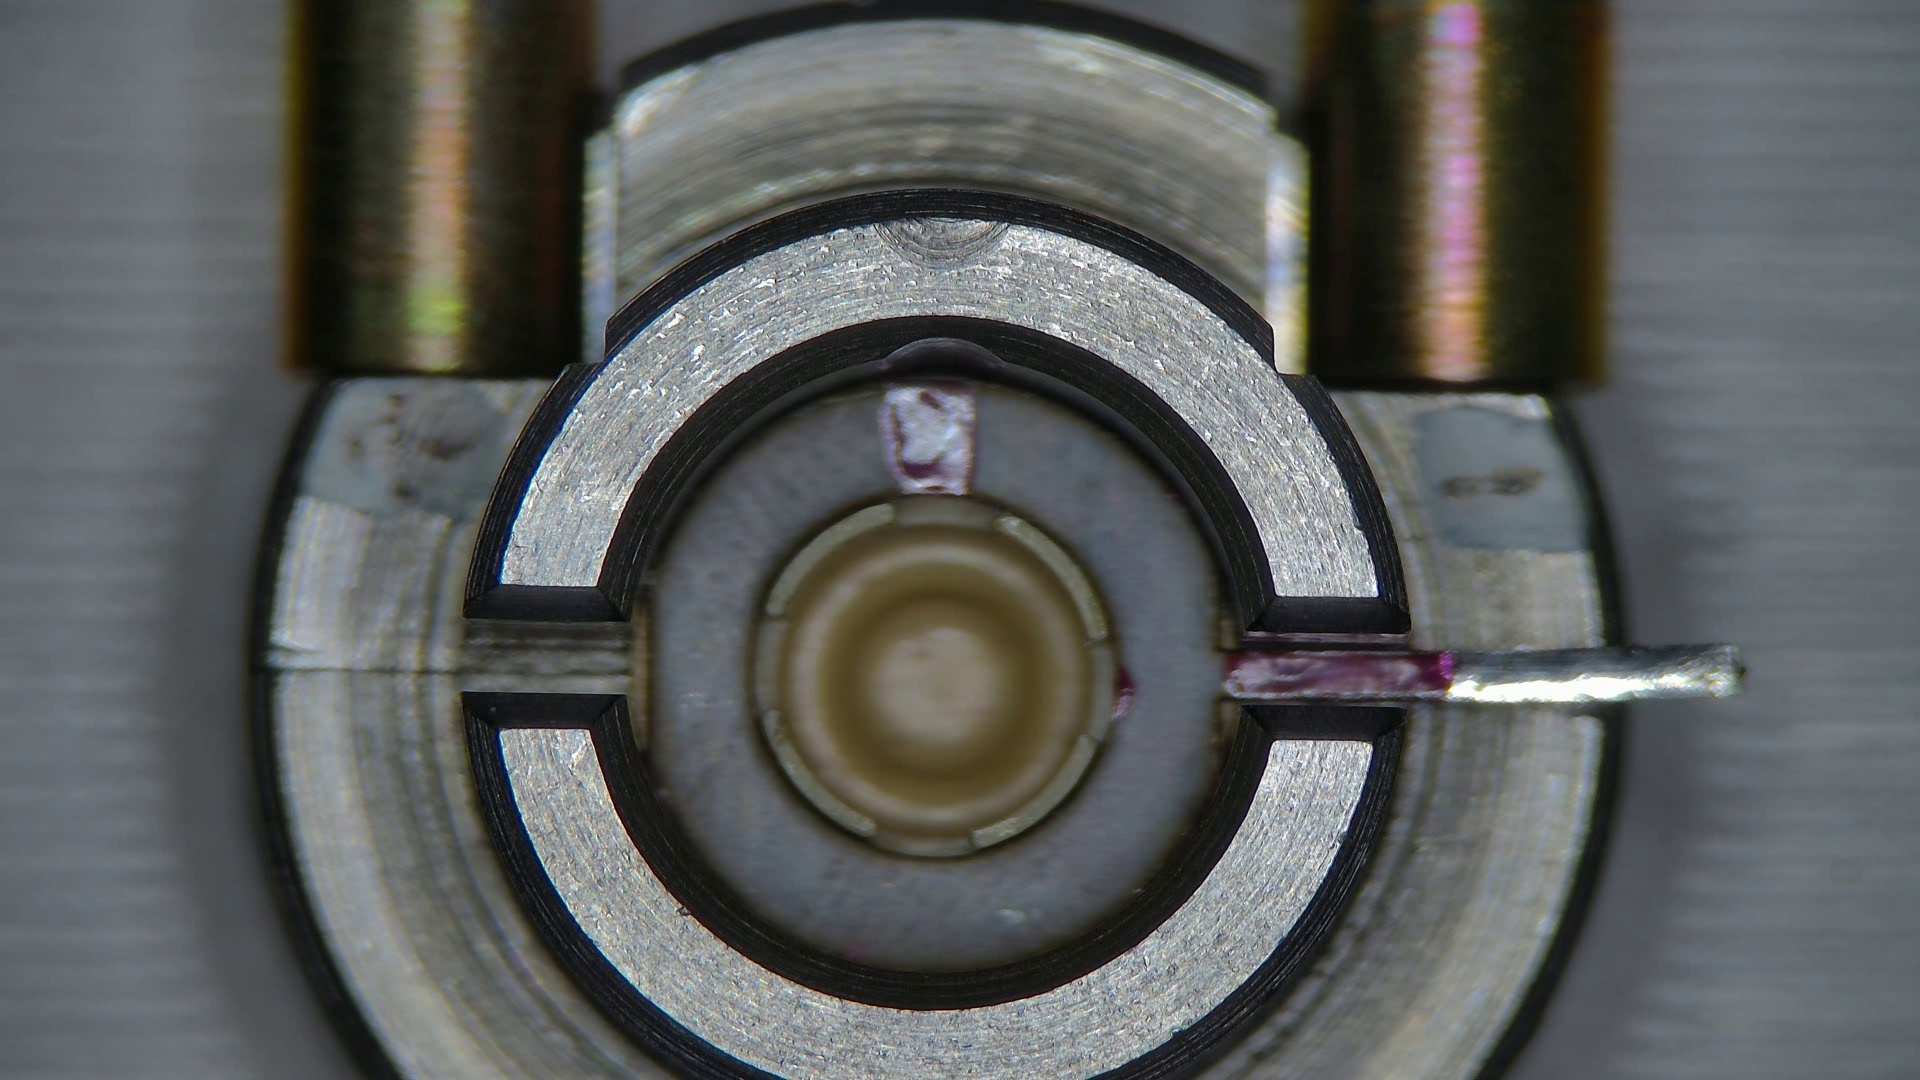YellowOring: (650, 382, 1216, 972)
